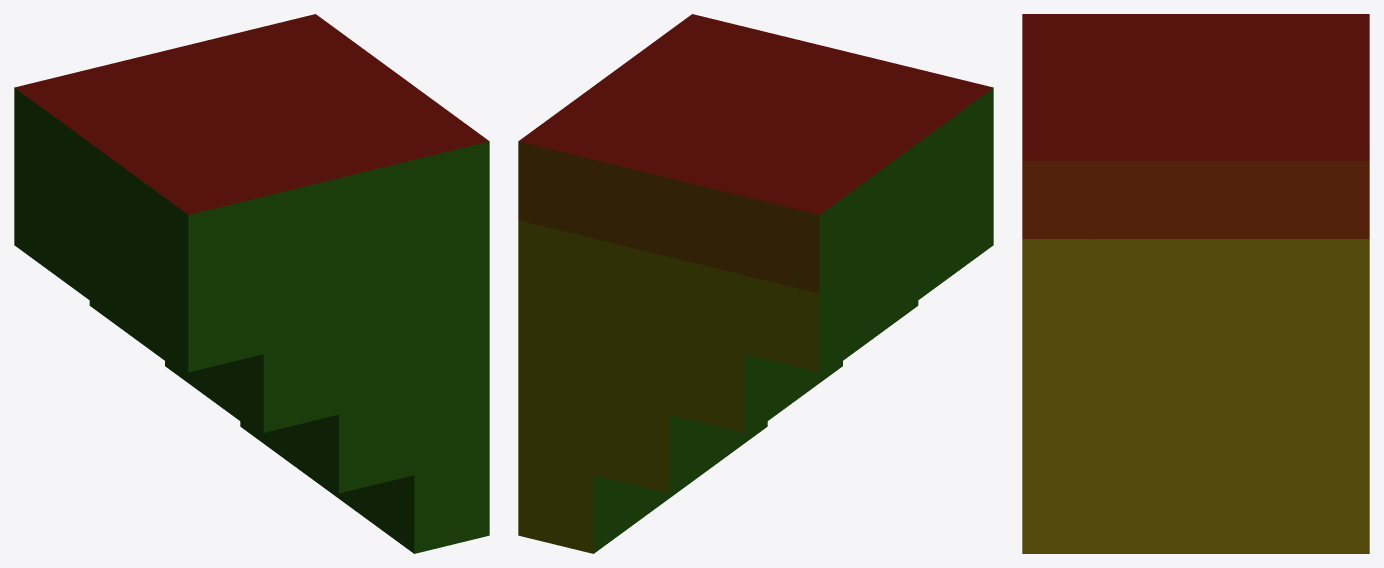
File: block_19.fbx
3 views of the same model, side by side, from view 1: azimuth 30°, elevation 25°; view 2: azimuth 150°, elevation 25°; view 3: azimuth 270°, elevation 25° (orthographic).
Parts seen in each view (by area): view 1: box.004; view 2: box.004; view 3: box.004.
Boxes of the visible parts, x1,y1,x2,y2 form: box.004: [14, 14, 489, 553]; box.004: [518, 14, 993, 553]; box.004: [1022, 14, 1369, 553].
Bounding box in the file's own units: 400 × 500 × 400.
